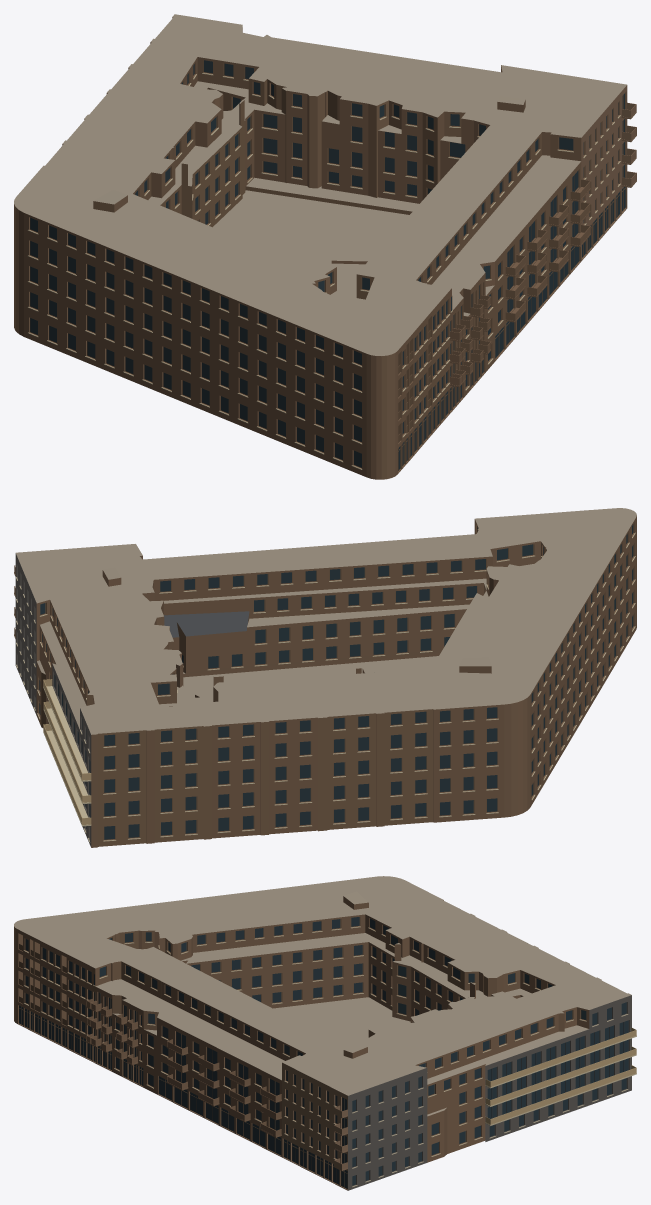
The model's file is recipe-large-revaleiland-253889.glb.
3 views of the same model, one above another, from view 1: azimuth 30°, elevation 25°; view 2: azimuth 150°, elevation 25°; view 3: azimuth 270°, elevation 25° (orthographic). The views are drawn at different scales.
Parts seen in each view (by area): view 1: revaleiland-253889; view 2: revaleiland-253889; view 3: revaleiland-253889.
Part boxes in pixels (x1,y1,x2,y2): revaleiland-253889: (14, 14, 636, 479); revaleiland-253889: (14, 508, 636, 847); revaleiland-253889: (14, 876, 636, 1190).
Size of the model in its own units: 83.53 by 17.84 by 99.3.
